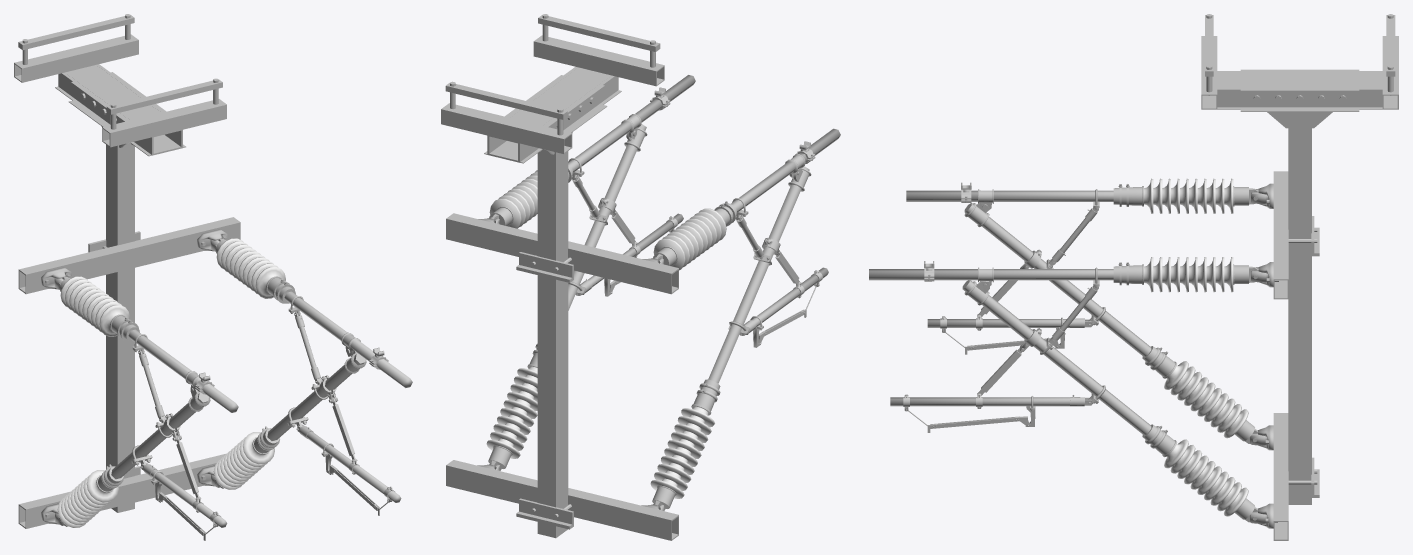
Rendered from gantry_short_double_3.obj.
3 renders of one model, left to right at view 1: azimuth 30°, elevation 25°; view 2: azimuth 150°, elevation 25°; view 3: azimuth 270°, elevation 25°, orthographic. The views are drawn at different scales.
Visible parts, largest first — view 1: 立方体.106, 立方体.243, 立方体.248, 立方体.096, 立方体.098, 立方体.103, 贝塞尔曲线.092, 贝塞尔曲线.091, 贝塞尔曲线.082, 贝塞尔曲线.083, 立方体.105, 立方体.097 (+8 smaller); view 2: 立方体.106, 立方体.248, 立方体.243, 立方体.098, 立方体.096, 立方体.103, 贝塞尔曲线.082, 贝塞尔曲线.092, 贝塞尔曲线.091, 立方体.105, 贝塞尔曲线.083, 立方体.095 (+6 smaller); view 3: 立方体.106, 立方体.103, 立方体.105, 贝塞尔曲线.092, 贝塞尔曲线.091, 贝塞尔曲线.082, 贝塞尔曲线.083, 立方体.243, 立方体.248, 贝塞尔曲线.090, 贝塞尔曲线.081, 立方体.098 (+2 smaller).
Boxes of the visible parts, box(x1,y1,x2,y2) form: 立方体.106: box(106, 143, 134, 512); 立方体.243: box(18, 217, 240, 294); 立方体.248: box(18, 453, 226, 528); 立方体.096: box(102, 99, 226, 147); 立方体.098: box(14, 34, 138, 82); 立方体.103: box(61, 64, 166, 121); 贝塞尔曲线.092: box(284, 291, 412, 387); 贝塞尔曲线.091: box(267, 353, 365, 440); 贝塞尔曲线.082: box(111, 392, 208, 479); 贝塞尔曲线.083: box(128, 329, 238, 412); 立方体.105: box(58, 73, 182, 155); 立方体.097: box(18, 15, 134, 50); 立方体.106: box(537, 150, 568, 538); 立方体.248: box(446, 460, 678, 540); 立方体.243: box(446, 213, 678, 294); 立方体.098: box(441, 103, 572, 153); 立方体.096: box(533, 35, 664, 86); 立方体.103: box(505, 66, 614, 127); 贝塞尔曲线.082: box(708, 166, 809, 383); 贝塞尔曲线.092: box(568, 75, 695, 172); 贝塞尔曲线.091: box(568, 124, 646, 310); 立方体.105: box(487, 76, 618, 162); 贝塞尔曲线.083: box(731, 128, 840, 212); 立方体.095: box(538, 15, 660, 51); 立方体.106: box(1288, 112, 1311, 504); 立方体.103: box(1217, 69, 1382, 91); 立方体.105: box(1217, 90, 1382, 107); 贝塞尔曲线.092: box(869, 269, 1113, 280); 贝塞尔曲线.091: box(962, 280, 1151, 435); 贝塞尔曲线.082: box(964, 202, 1151, 357); 贝塞尔曲线.083: box(906, 190, 1113, 201); 立方体.243: box(1273, 171, 1288, 299); 立方体.248: box(1273, 413, 1288, 540); 贝塞尔曲线.090: box(890, 397, 1070, 406); 贝塞尔曲线.081: box(927, 319, 1069, 327); 立方体.098: box(1382, 36, 1398, 109).
Size of the model in its own units: 1.72 by 3.42 by 3.57.
